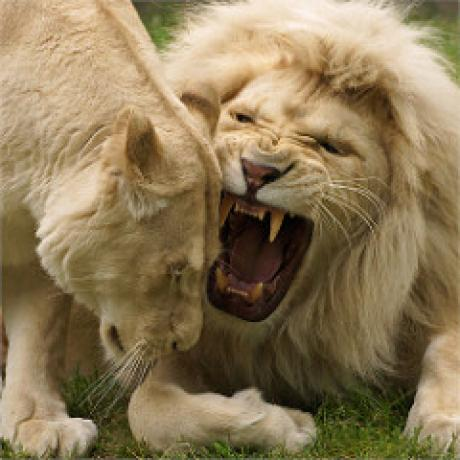Lion: (177, 0, 460, 460), (0, 0, 226, 460)
